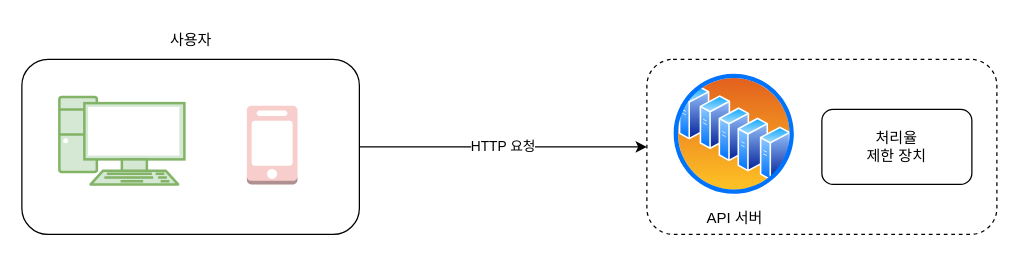
This 1019x256 diagram has some shape labels left out. The centre of each missing label's shape, as x and y in pixels:
모바일 앱: the point at 272,144
웹 브라우저: the point at 121,140
